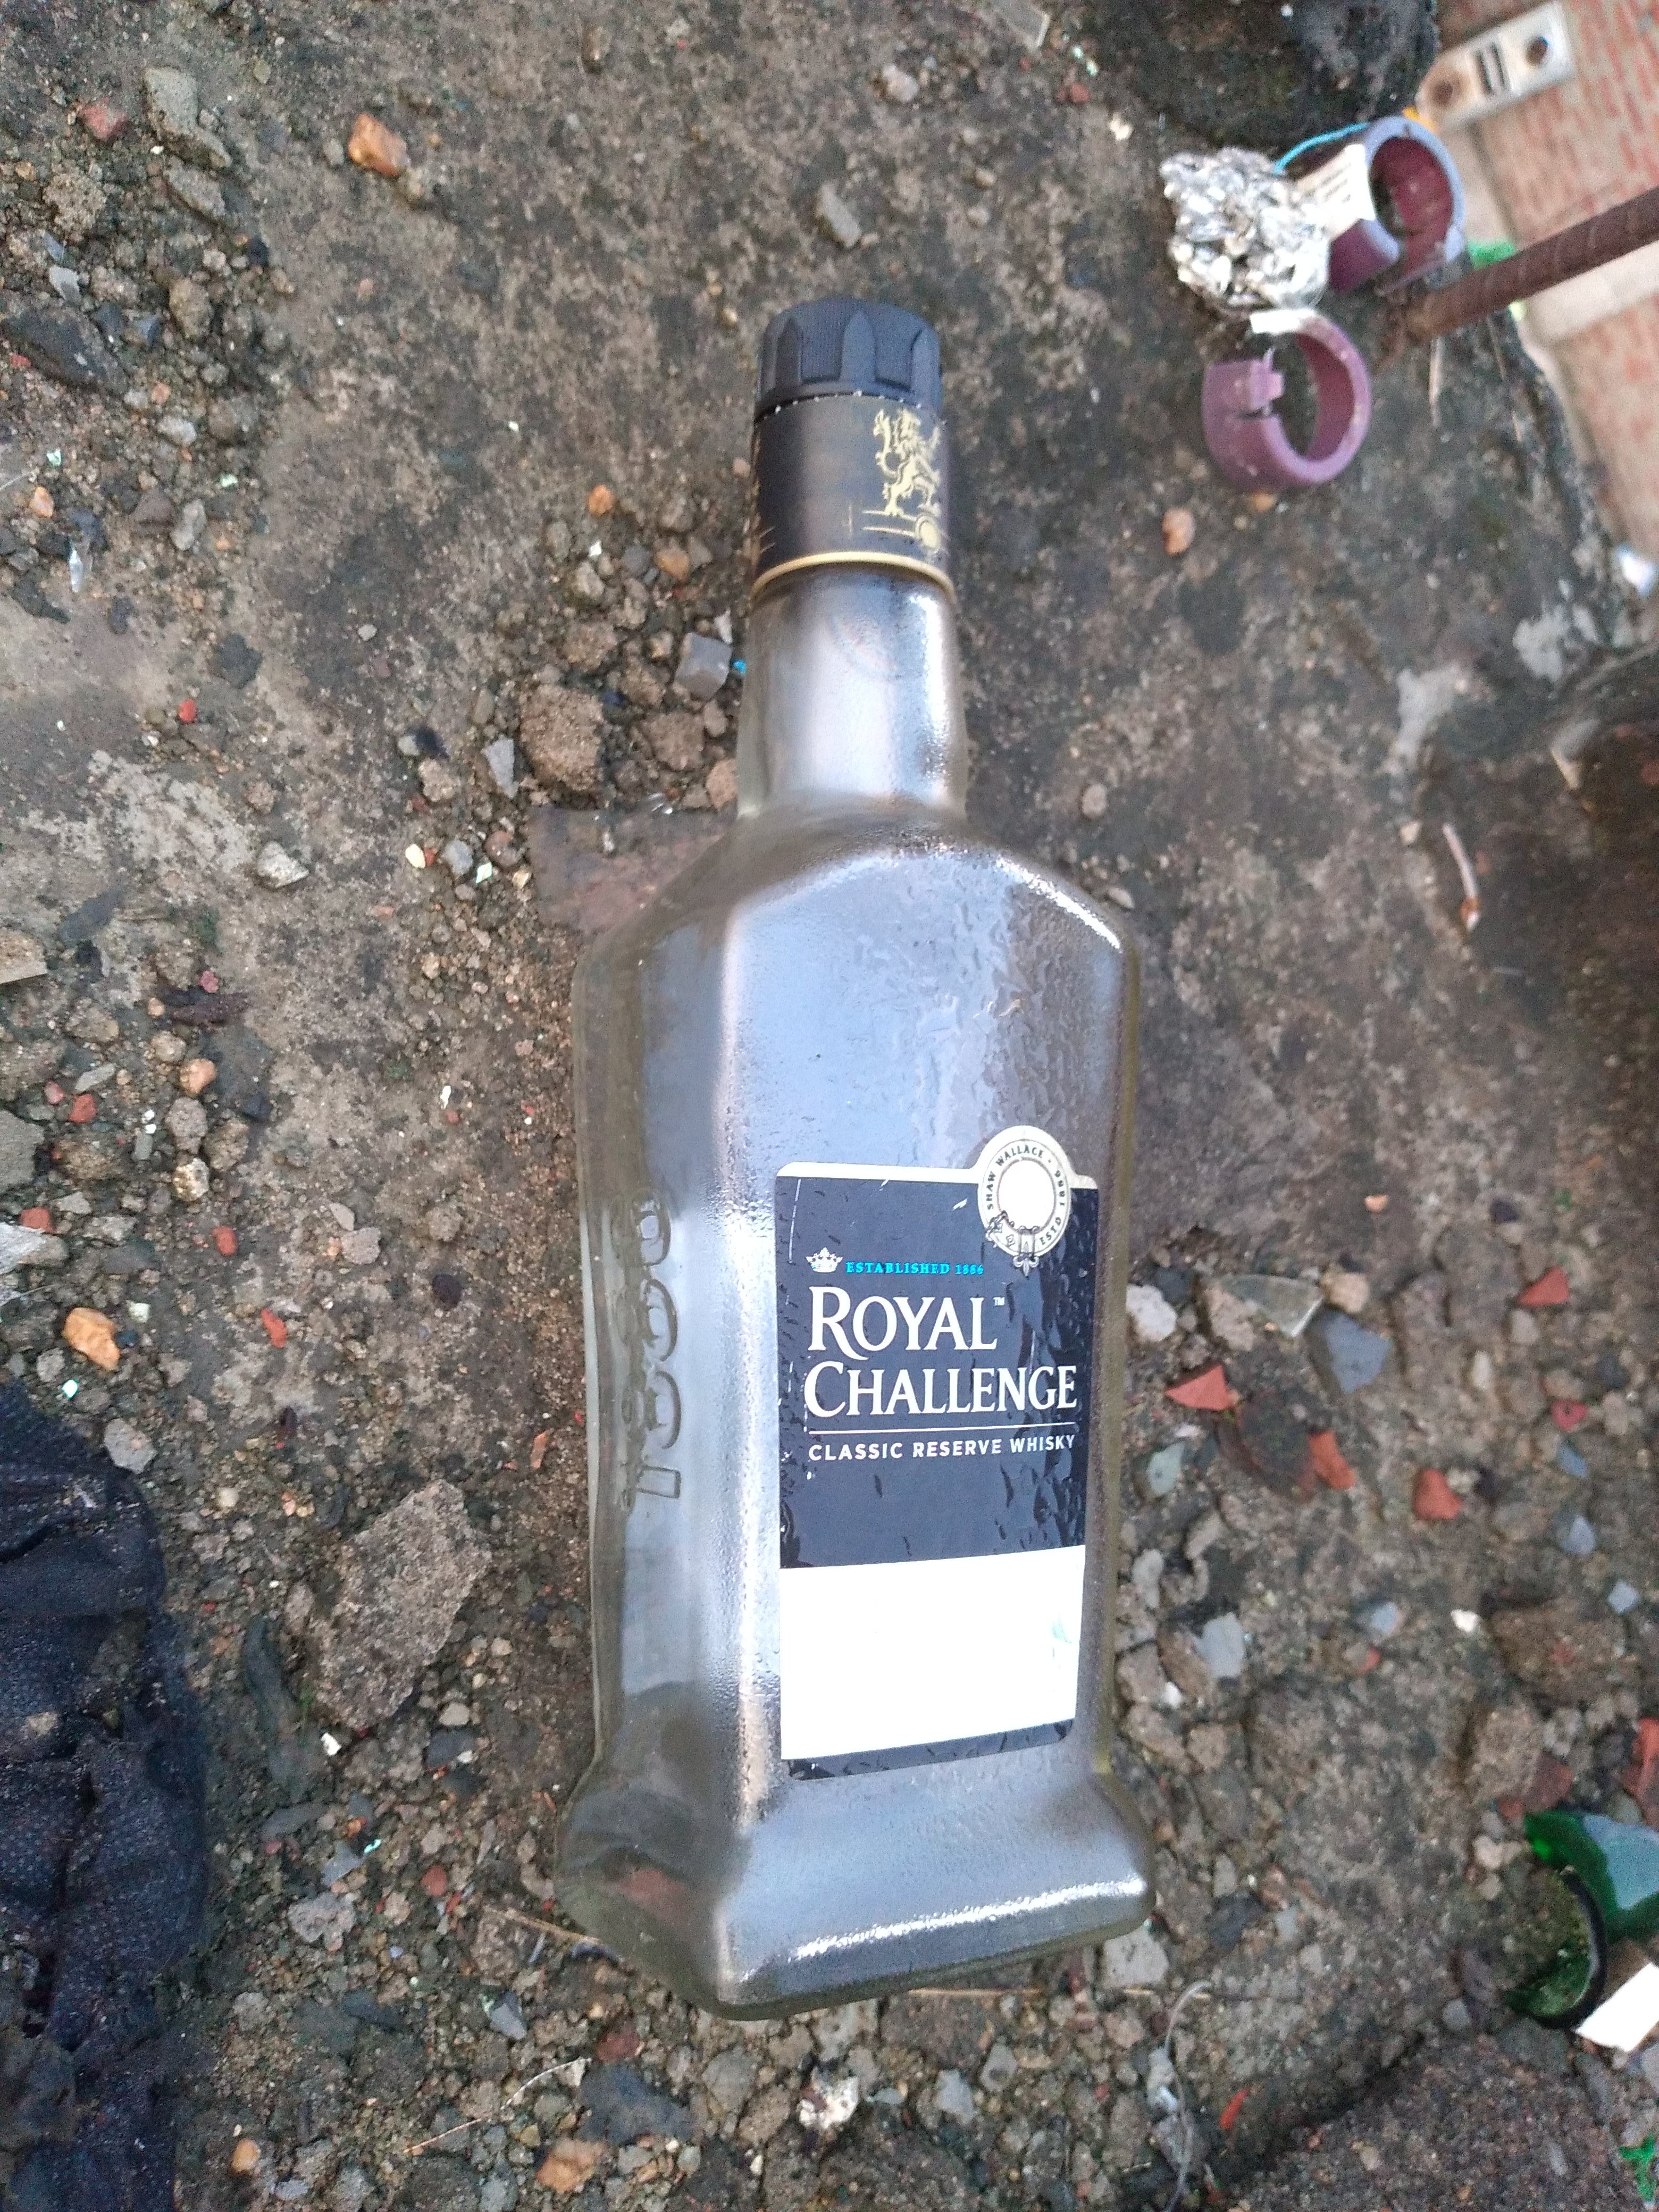glass_bottle: (521, 247, 1216, 2050)
